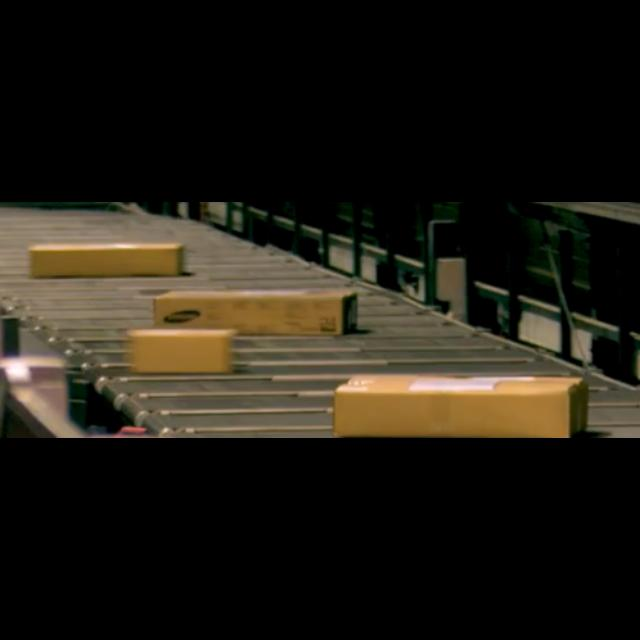box: (336, 373, 588, 439), (153, 288, 359, 336), (124, 328, 240, 372), (32, 243, 186, 274)
